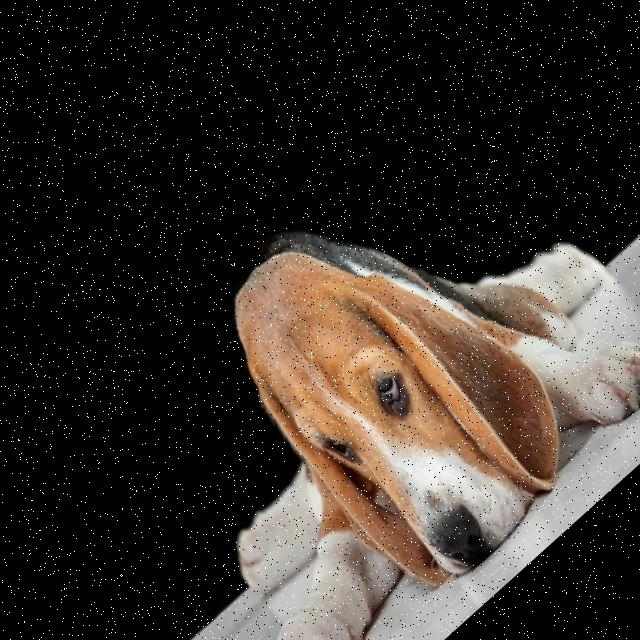Dog: (51, 85, 640, 640)
